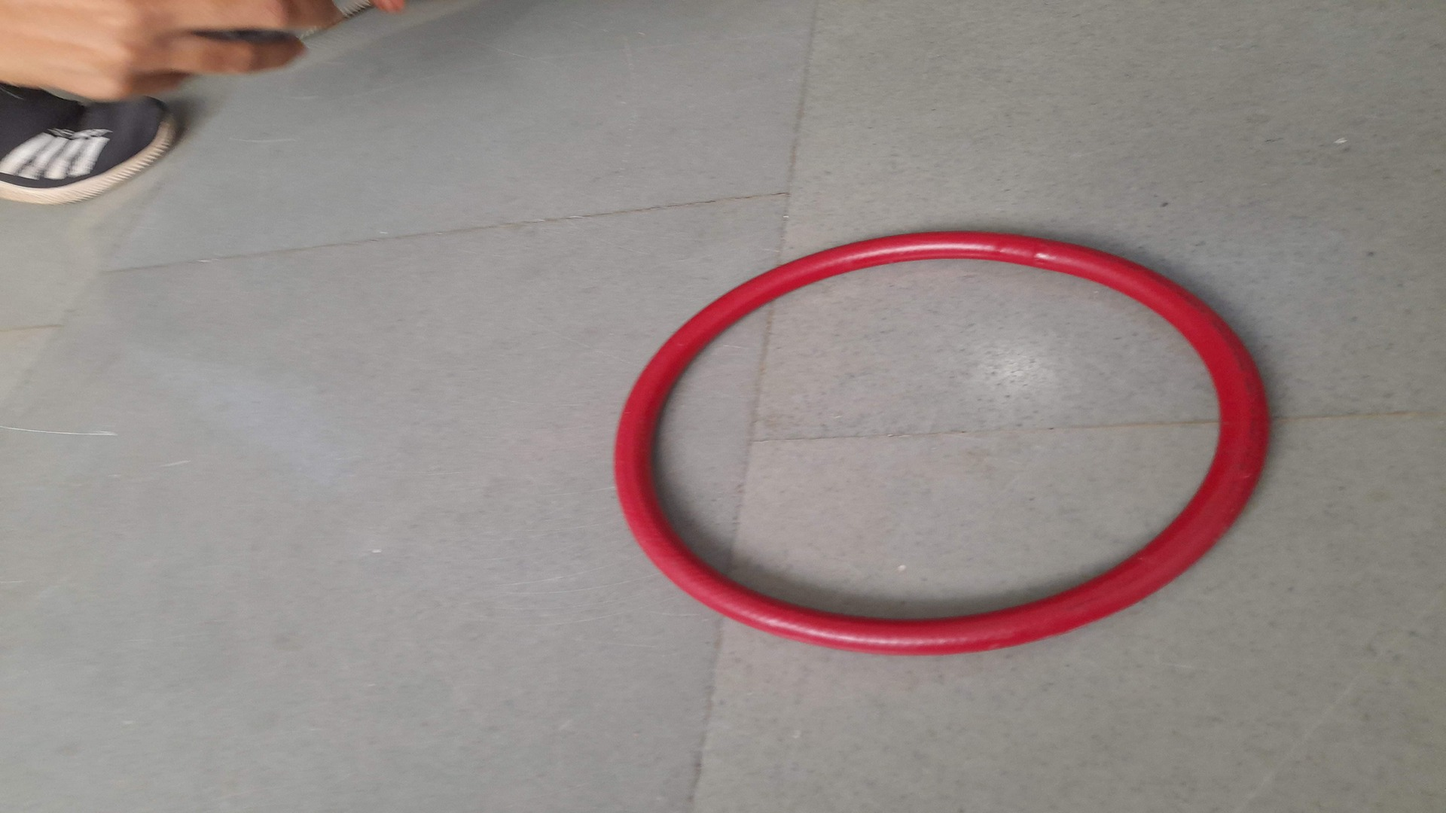Red ring: (613, 236, 1270, 653)
